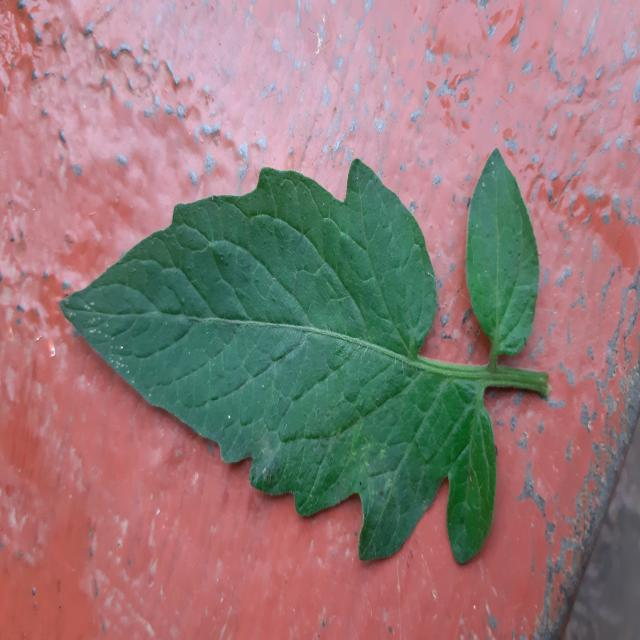tomato: (61, 149, 549, 562)
